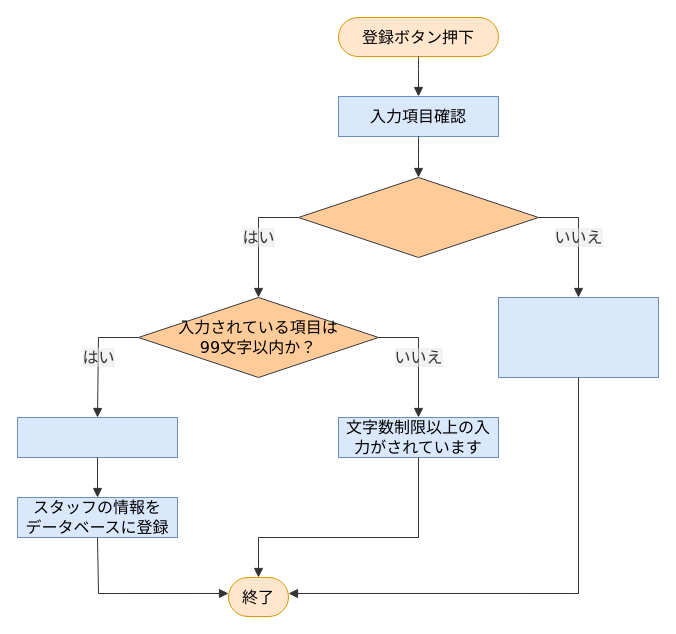
Image size: 676x634. Some labels were removed from this diagram. Each missing label, with the centre of its shape:
"すべての項目が 入力されているか？" goes at [418,217].
"エラーメッセージ「すべての項目に入力をしてください」を表示" goes at [578,337].
"スタッフIDを発行" goes at [97,437].
